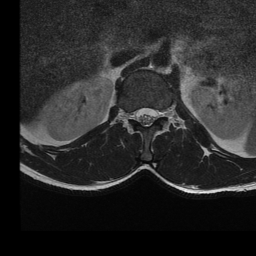CCS_normal: (142, 98, 150, 133)
LFS_normal: (158, 101, 166, 125)
LLS_normal: (150, 99, 158, 127)
RFS_normal: (126, 102, 134, 126)
RLS_normal: (134, 100, 142, 127)
